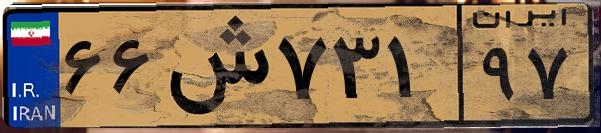1: (385, 28, 445, 110)
3: (330, 28, 385, 110)
6: (57, 26, 110, 100), (110, 28, 158, 98)
7: (270, 28, 330, 110), (525, 38, 570, 115)
9: (475, 38, 525, 113)
ش: (158, 12, 270, 120)
